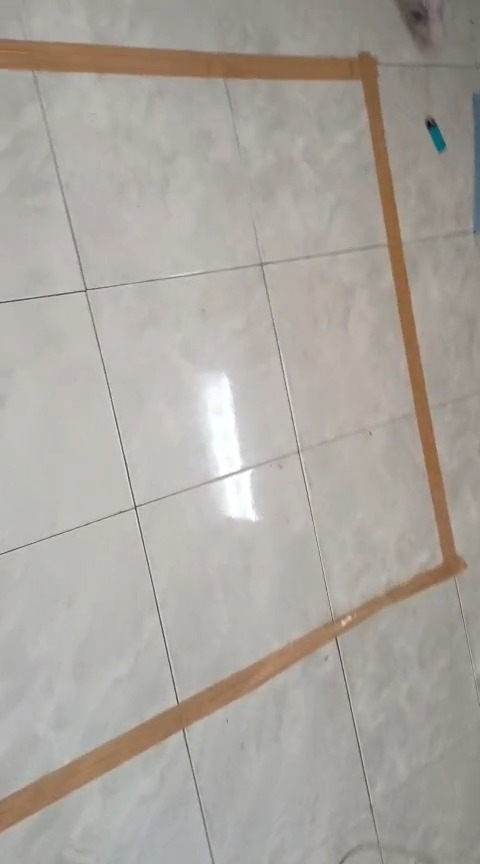floor marking: (0, 40, 465, 832)
